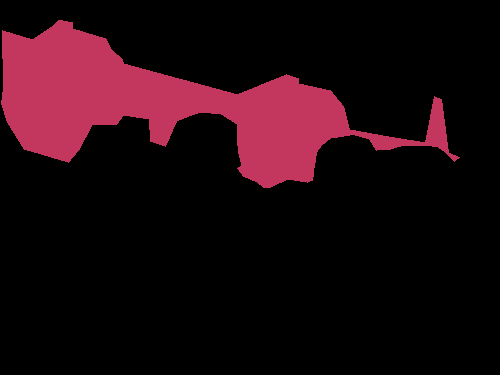Airplane: (1, 20, 459, 188)
